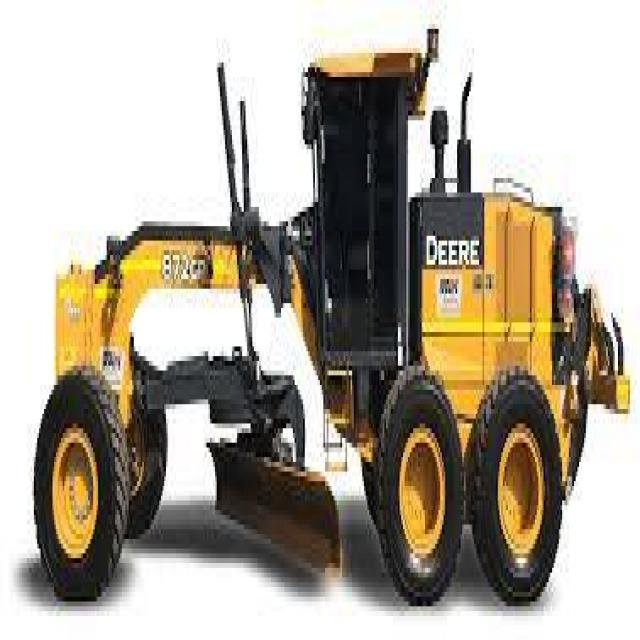Grader: (24, 43, 626, 635)
